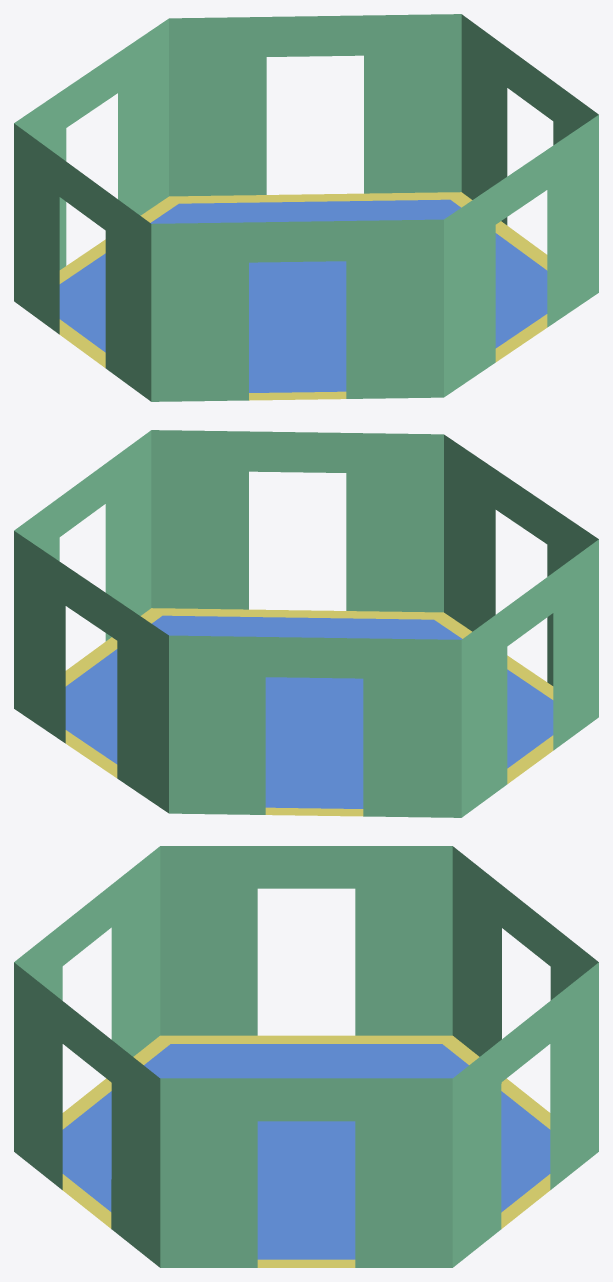
File: Main Room.fbx
3 views of the same model, one above another, from view 1: azimuth 30°, elevation 25°; view 2: azimuth 150°, elevation 25°; view 3: azimuth 270°, elevation 25° (orthographic). The views are drawn at different scales.
Parts seen in each view (by area): view 1: Cylinder.001; view 2: Cylinder.001; view 3: Cylinder.001.
Boxes of the visible parts, x1=… form: Cylinder.001: x1=14, y1=14, x2=598, y2=401; Cylinder.001: x1=14, y1=430, x2=598, y2=817; Cylinder.001: x1=14, y1=846, x2=598, y2=1267.
Bounding box in the file's own units: 2193 × 834 × 2333.
